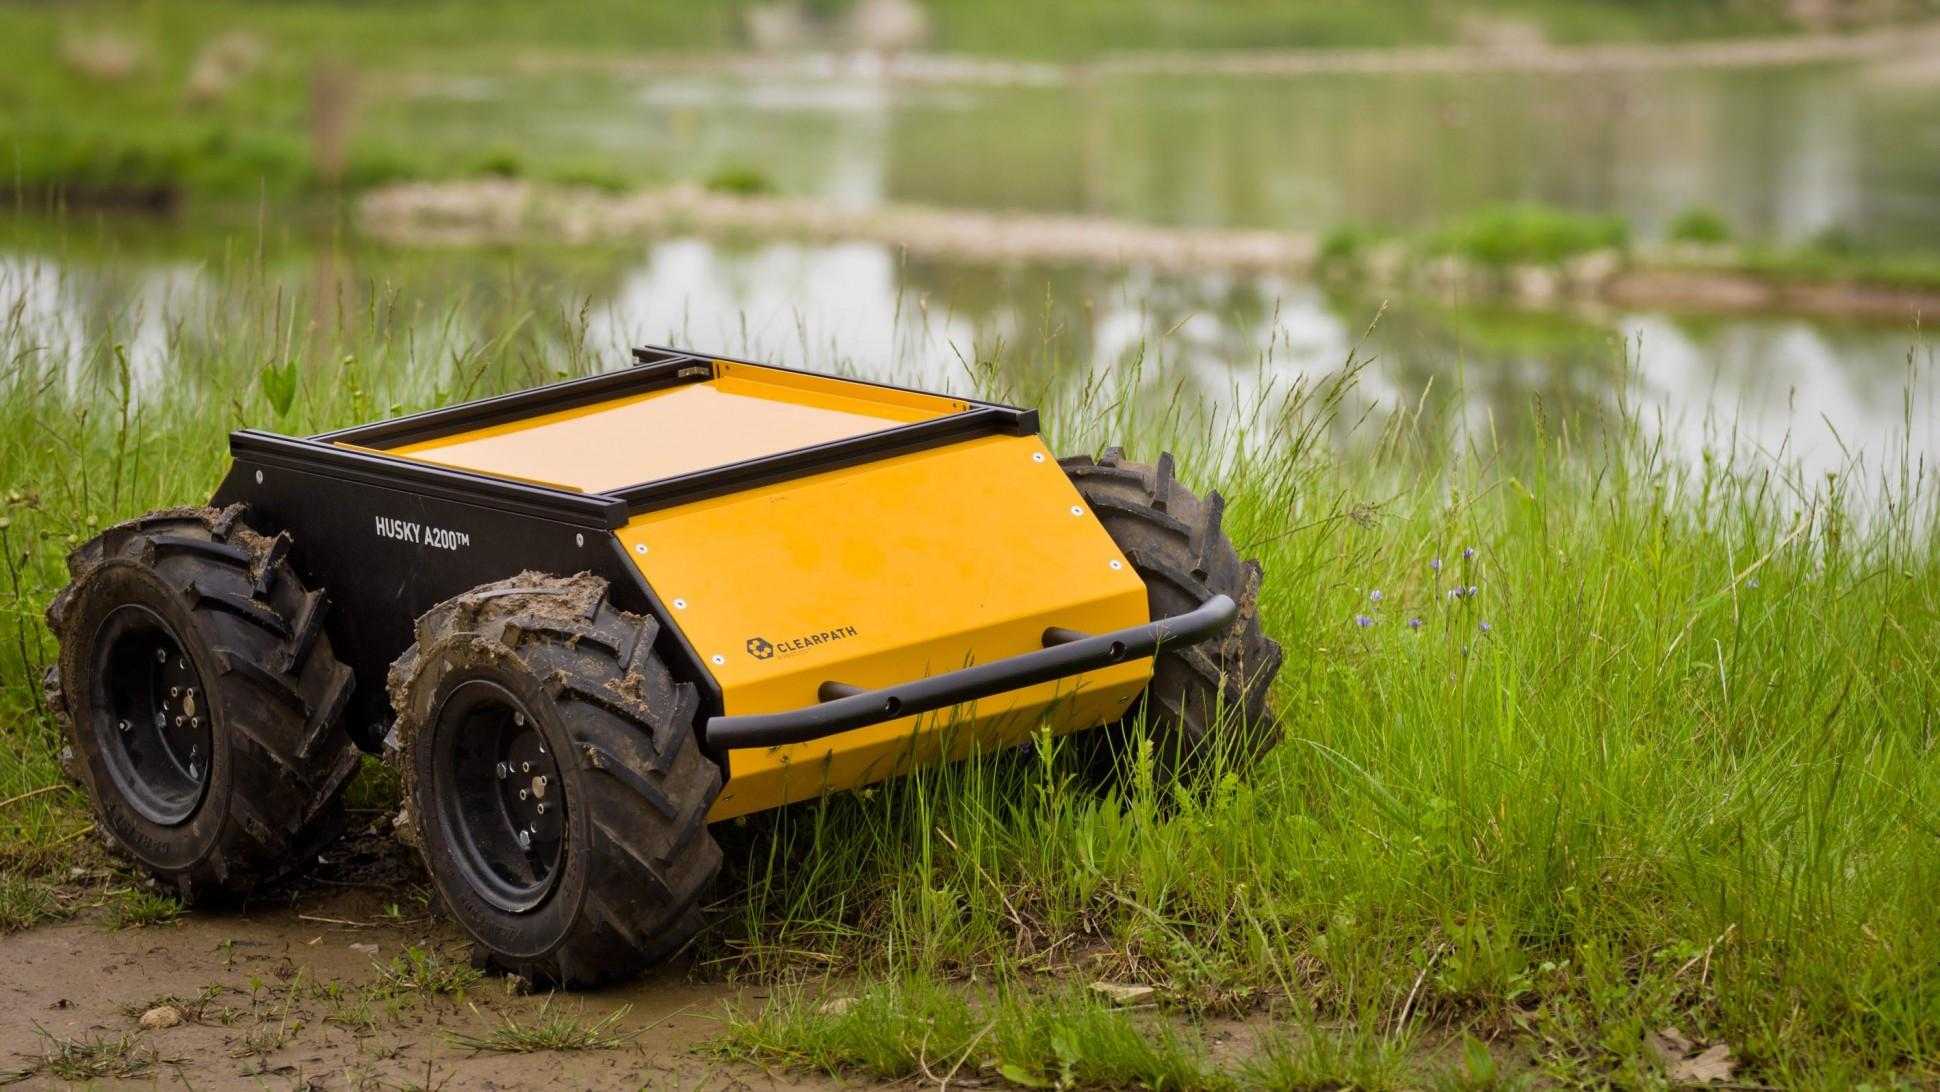husky: (46, 343, 1287, 996)
